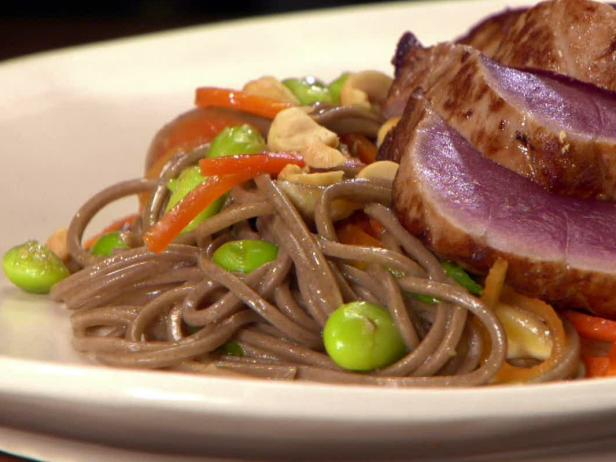Soba: (49, 93, 529, 398)
